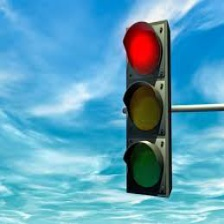semaforo: (122, 18, 171, 197)
